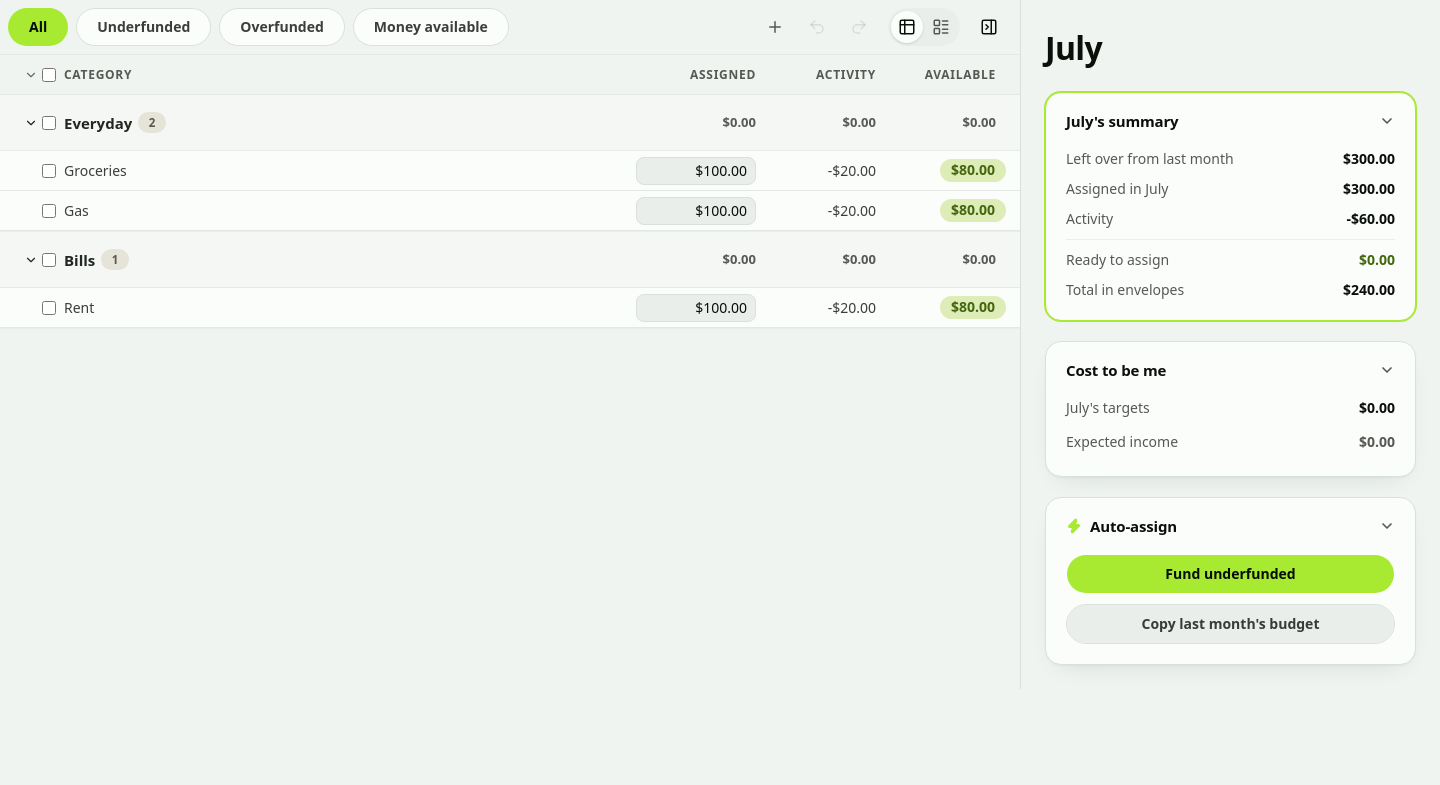
Test: BudgetTable side panel and open row (grid) › opens a clicked category in the side panel and marks only that row open
Click the text "Groceries" at (95, 170), box top-left (64, 160), bottom-right (127, 181)
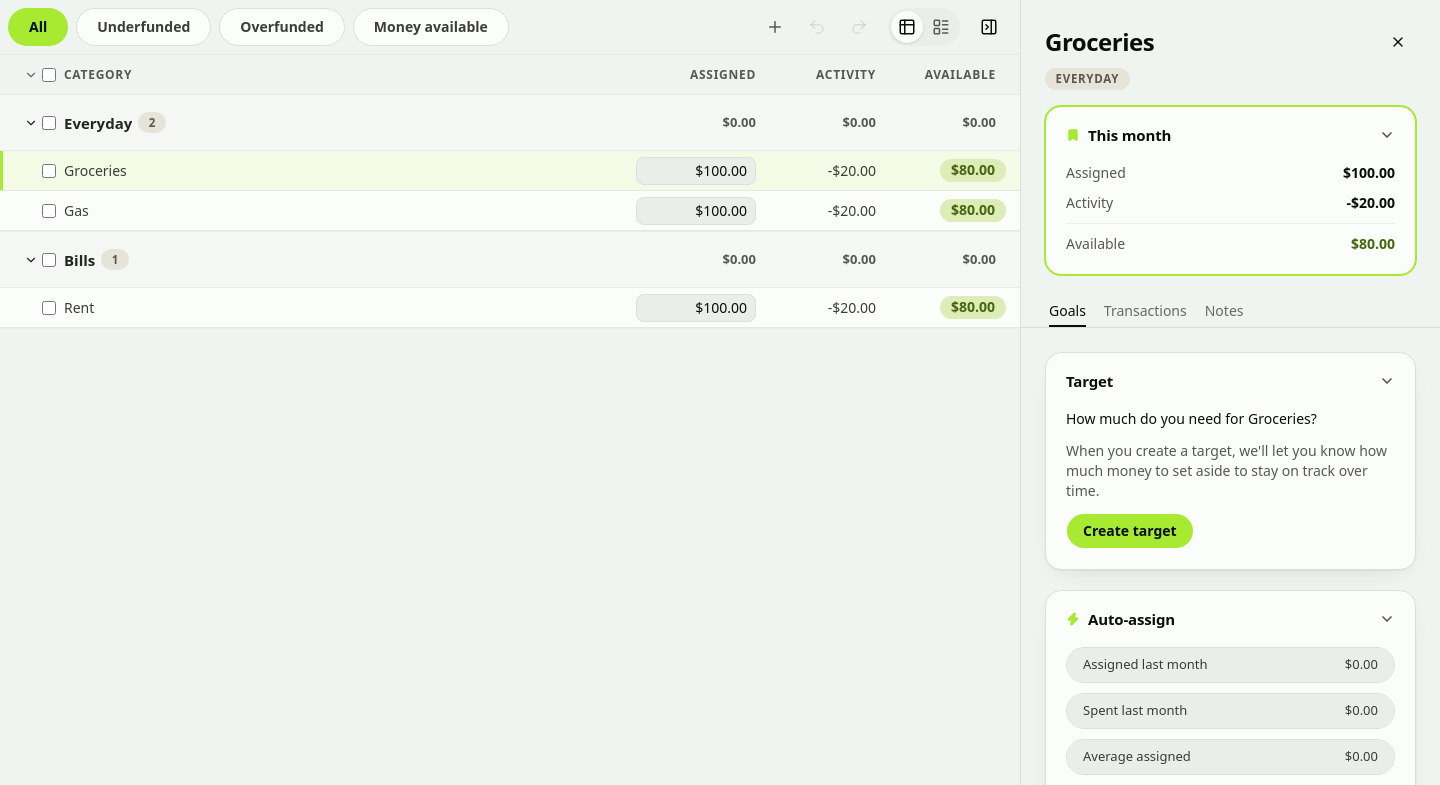
Result: the button named "Close panel" is shown at top-left (1380, 24), bottom-right (1416, 60)
